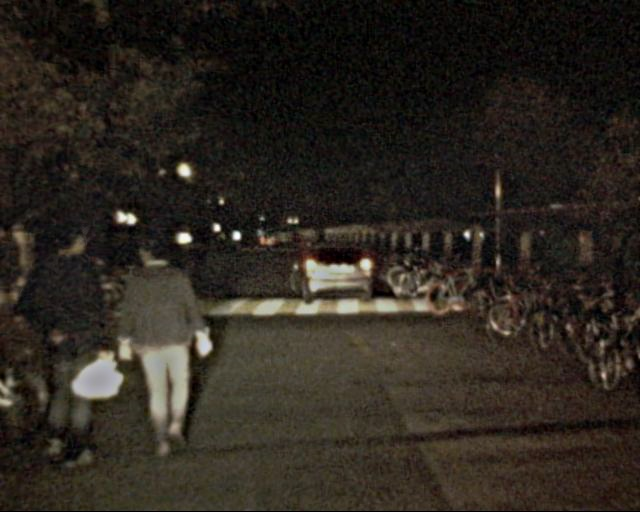person: (36, 214, 104, 478), (130, 231, 207, 452)
